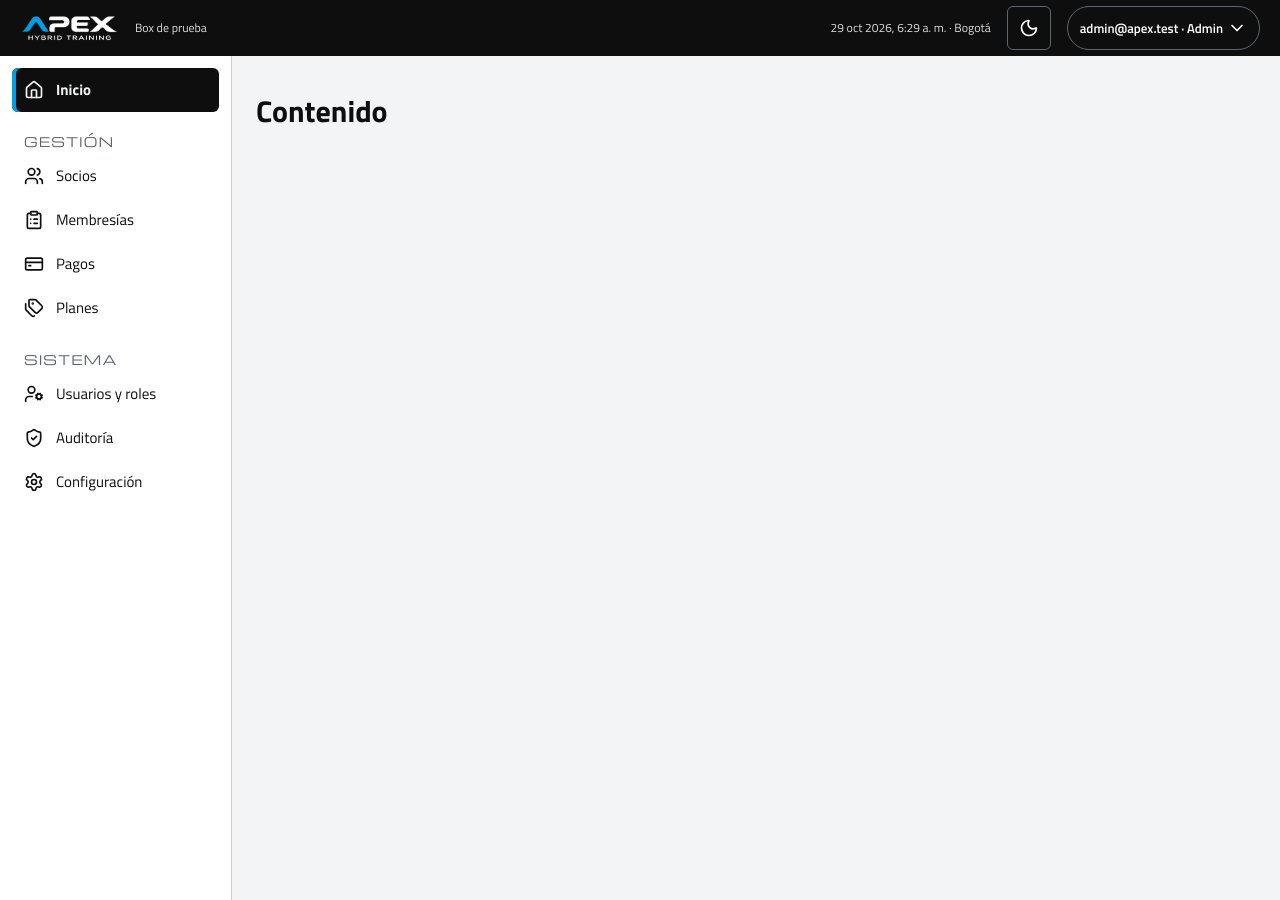
PanelShell › S2-F4a: 'Mi cuenta' del menú de usuario abre el panel con los datos y el cambio de contraseña
Step 1. Click the button "admin@apex.test · Admin" → (1163, 28), box [1067,6,1260,50]
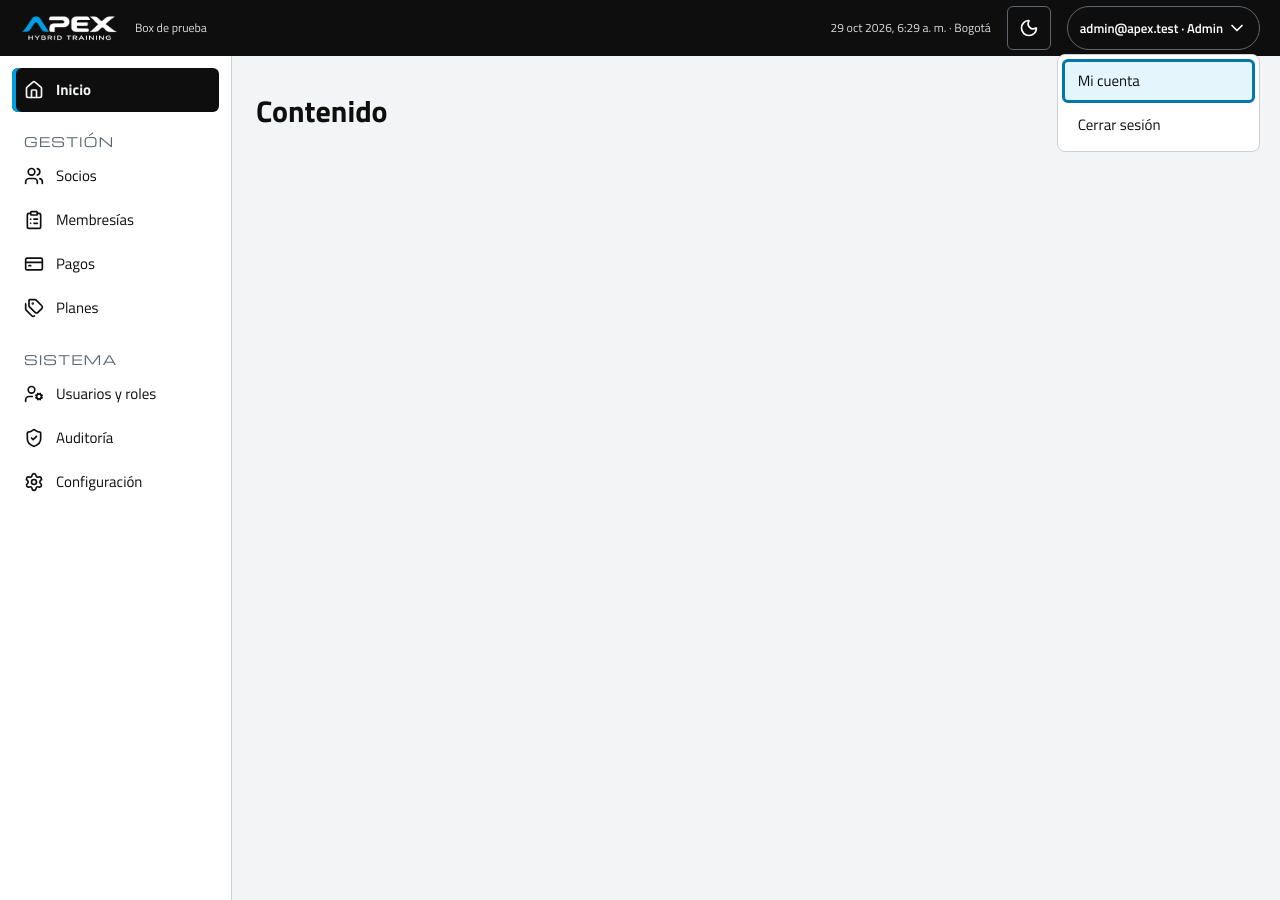
Step 2. Click the menu item "Mi cuenta" → (1158, 81), box [1062,59,1255,103]
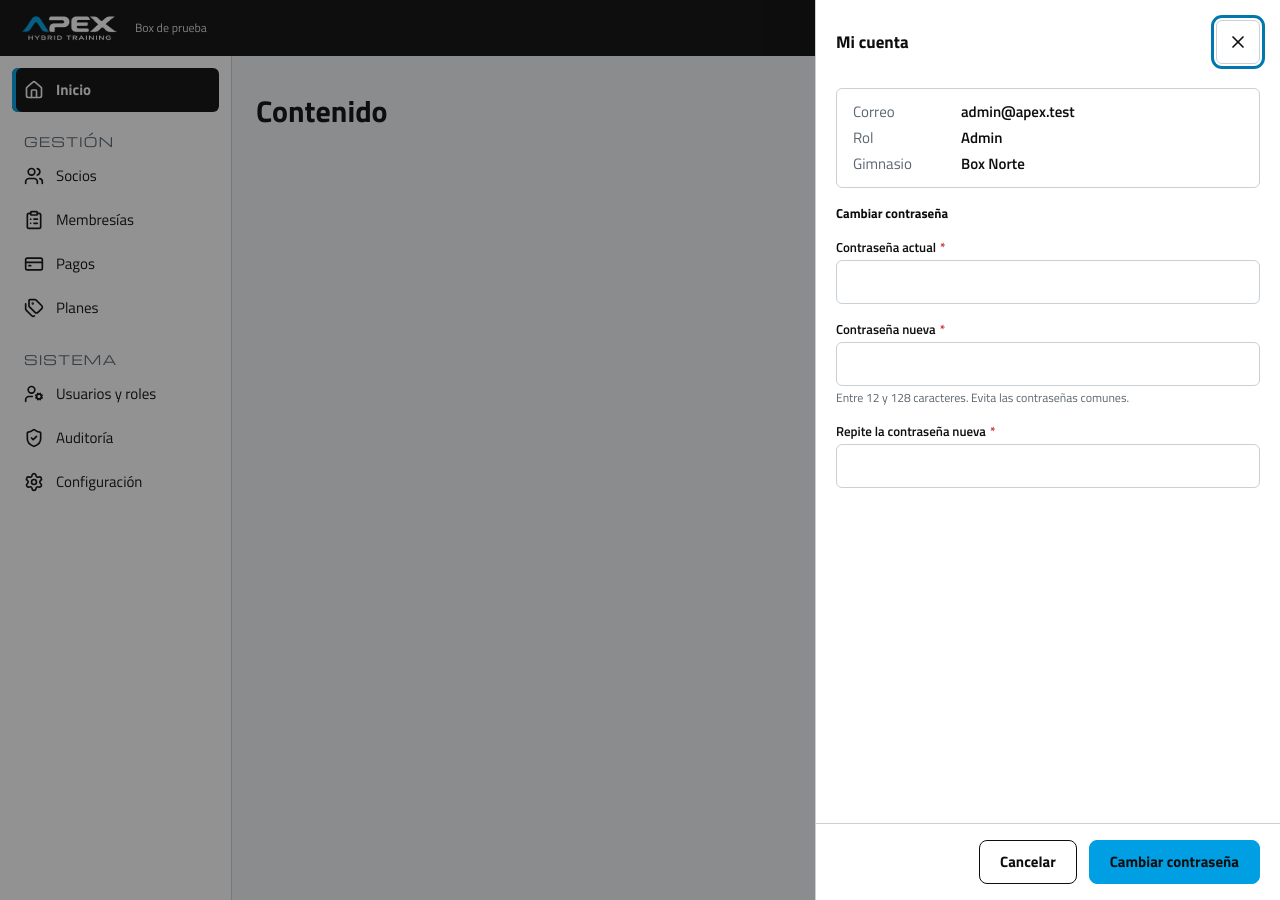
Result: the text "Box Norte" is shown at [961,153,1025,175]
Result: the password field labelled "Contraseña actual*" is shown at [836,260,1260,304]
Step 3. Click the button "Cancelar" → (1028, 862), box [979,840,1077,884]
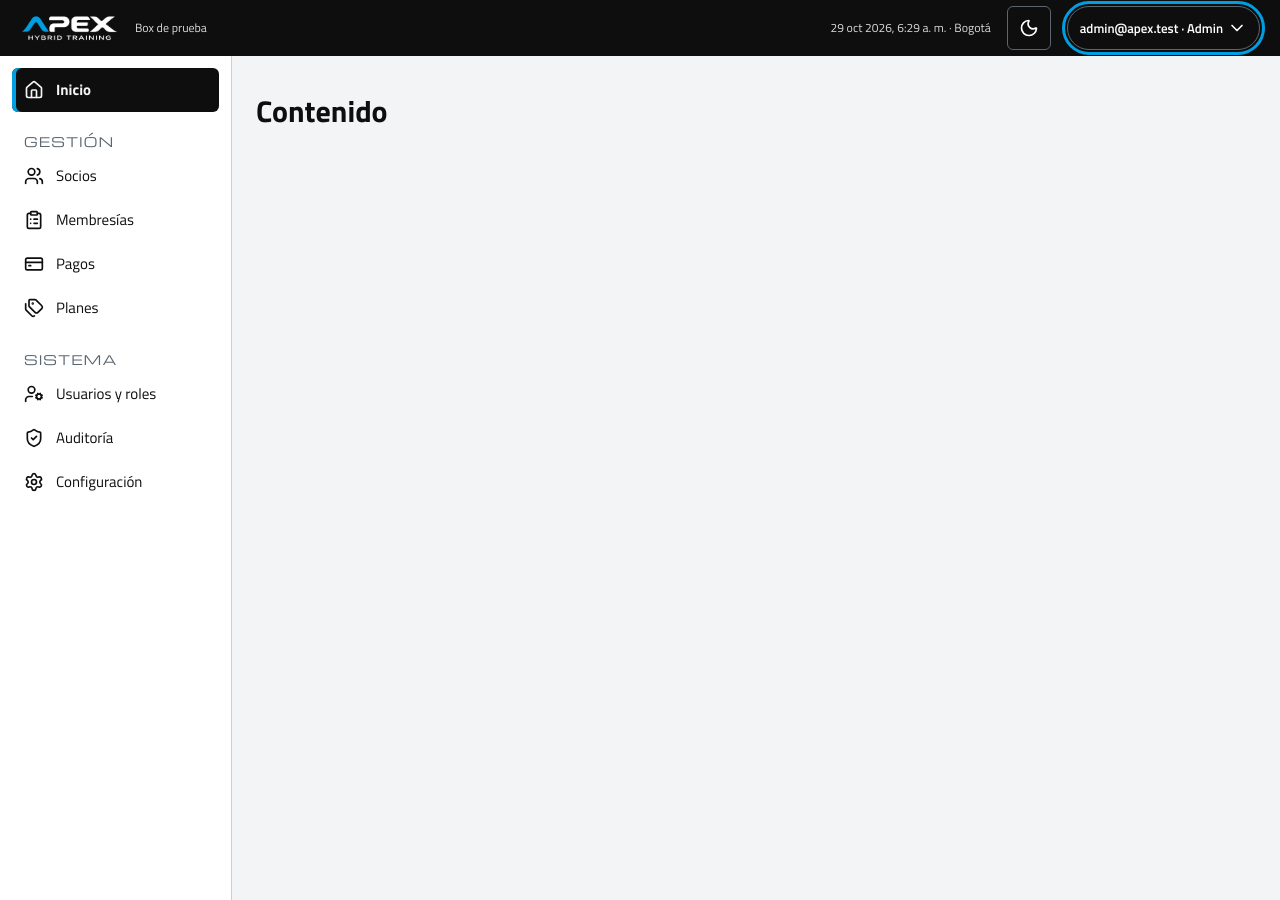
Result: the heading "Mi cuenta" is gone
